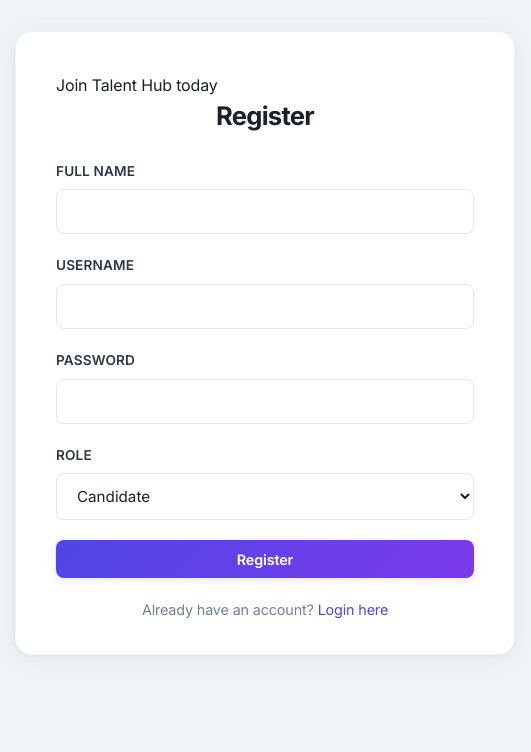
Test: Register › shows company name field when HR_ADMIN role is selected
Select "HR Admin" in the dropdown labelled "Role" at (265, 497), box [56,473,474,520]
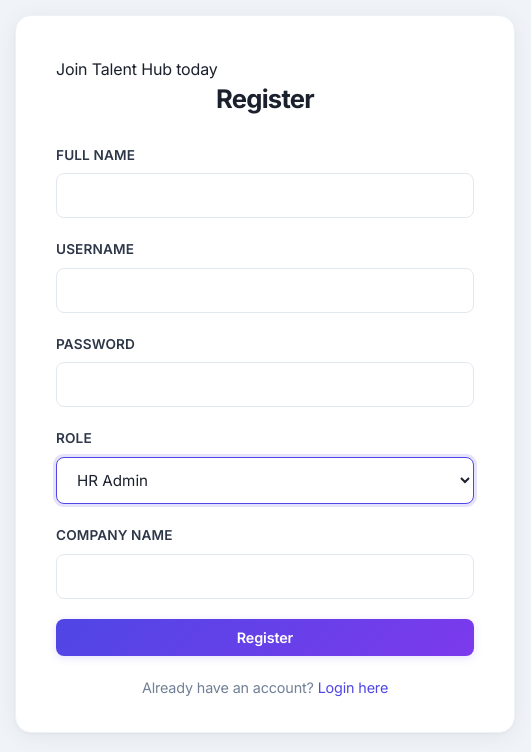
Expected: the field labelled "Company Name" is shown, [56,554,474,599]
